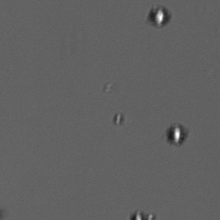Living Cell: (147, 5, 173, 28), (166, 123, 189, 145)
